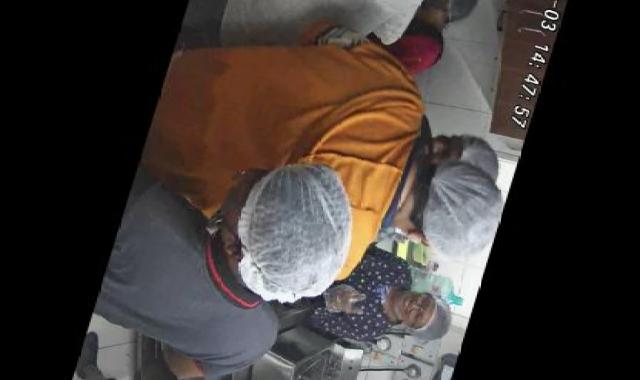hairnet: (226, 153, 357, 300), (412, 157, 511, 259), (434, 129, 495, 175), (440, 0, 488, 27)
